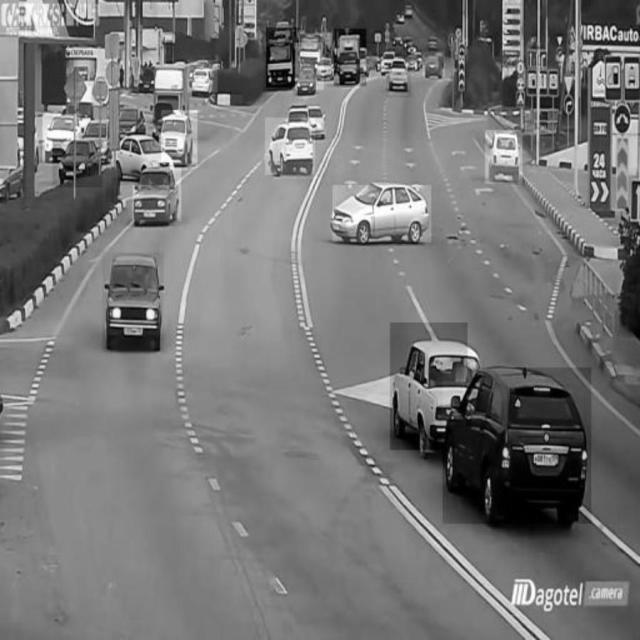vehicle: (443, 368, 591, 524), (390, 322, 468, 450), (103, 252, 164, 352), (333, 186, 431, 243), (266, 118, 316, 175), (118, 136, 170, 186), (133, 167, 181, 221), (53, 140, 103, 187), (485, 130, 522, 184), (161, 110, 197, 165), (267, 28, 299, 88), (334, 30, 366, 87), (42, 114, 80, 162), (295, 43, 323, 90), (387, 52, 412, 97), (188, 60, 218, 92), (423, 52, 445, 77)
